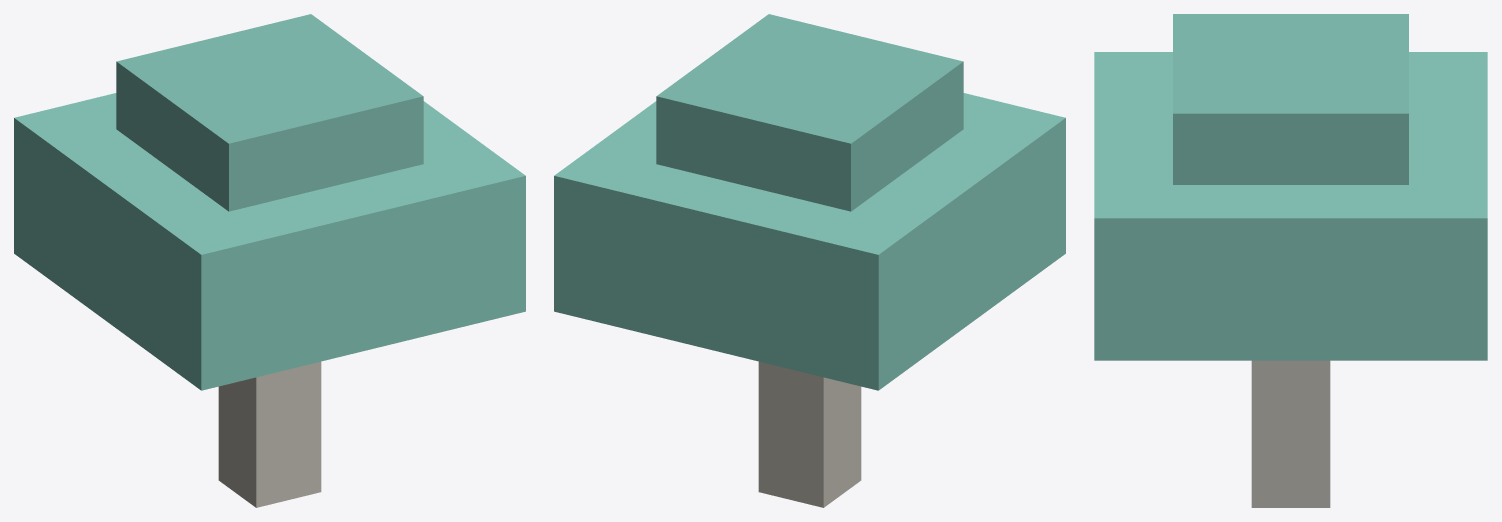
File: seta_luminosa_03.glb
3 renders of one model, left to right at view 1: azimuth 30°, elevation 25°; view 2: azimuth 150°, elevation 25°; view 3: azimuth 270°, elevation 25°, orthographic. The views are drawn at different scales.
Visible parts, largest first — view 1: seta_luminosa_03; view 2: seta_luminosa_03; view 3: seta_luminosa_03.
Boxes of the visible parts, x1,y1,x2,y2 form: seta_luminosa_03: [14, 14, 525, 507]; seta_luminosa_03: [554, 14, 1065, 507]; seta_luminosa_03: [1094, 14, 1487, 507].
Size of the model in its own units: 0.5 by 0.6 by 0.5.
